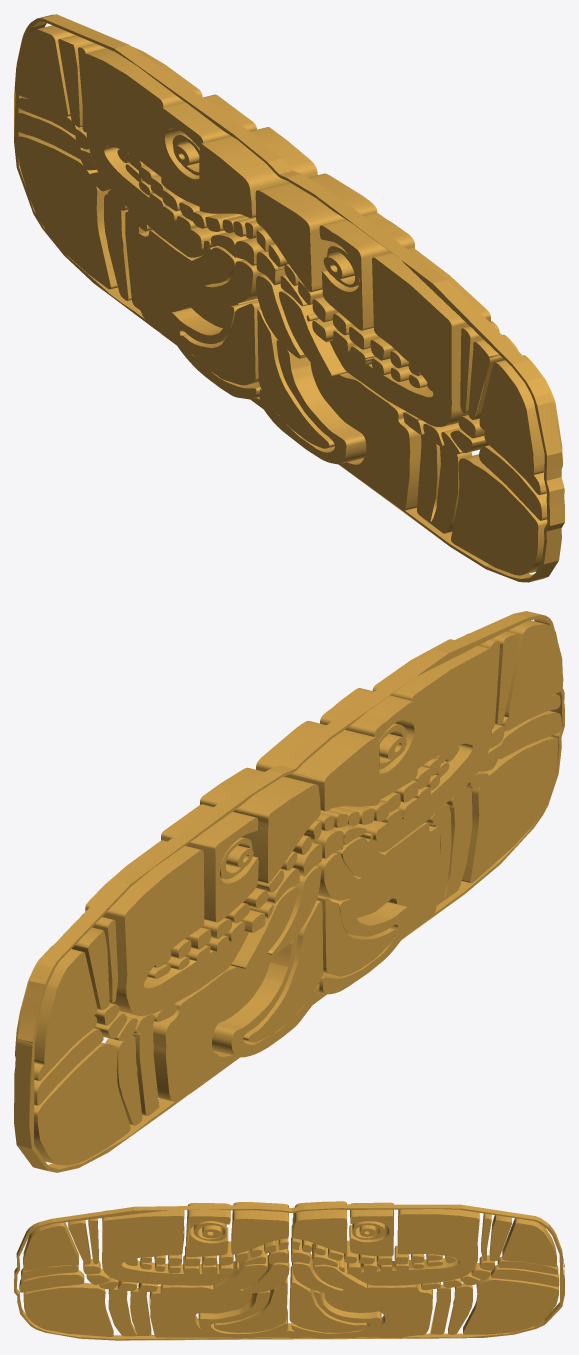
Rendered from templegoldpeice5.glb.
3 renders of one model, top to bottom at view 1: azimuth 30°, elevation 25°; view 2: azimuth 150°, elevation 25°; view 3: azimuth 270°, elevation 25°, orthographic. The views are drawn at different scales.
Parts seen in each view (by area): view 1: Selection.040; view 2: Selection.040; view 3: Selection.040.
Part boxes in pixels (x1,y1,x2,y2): Selection.040: (14,14,564,582); Selection.040: (14,611,564,1172); Selection.040: (14,1201,564,1340).
Size of the model in its own units: 0.0758 by 0.2688 by 1.02.
